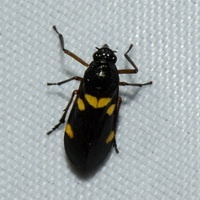insect: (47, 25, 151, 167)
